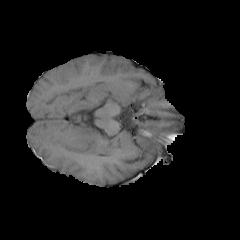glioma: (63, 128, 131, 159)
